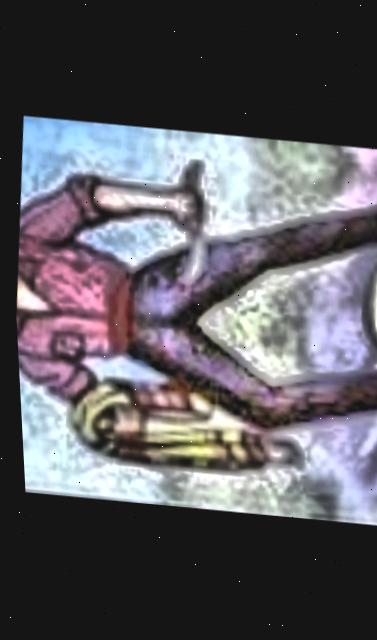El Valiente: (5, 117, 377, 525)
